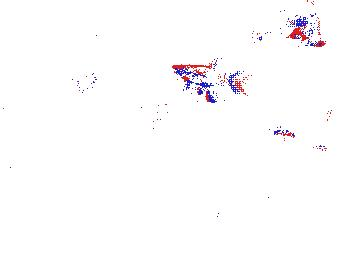X-ray fish: (135, 74, 177, 127), (50, 53, 101, 95)
red belly glassfish: (256, 124, 295, 142), (297, 139, 331, 156)
redtail glassfish: (171, 60, 247, 97), (293, 12, 328, 48), (252, 29, 301, 51), (325, 96, 346, 131)
